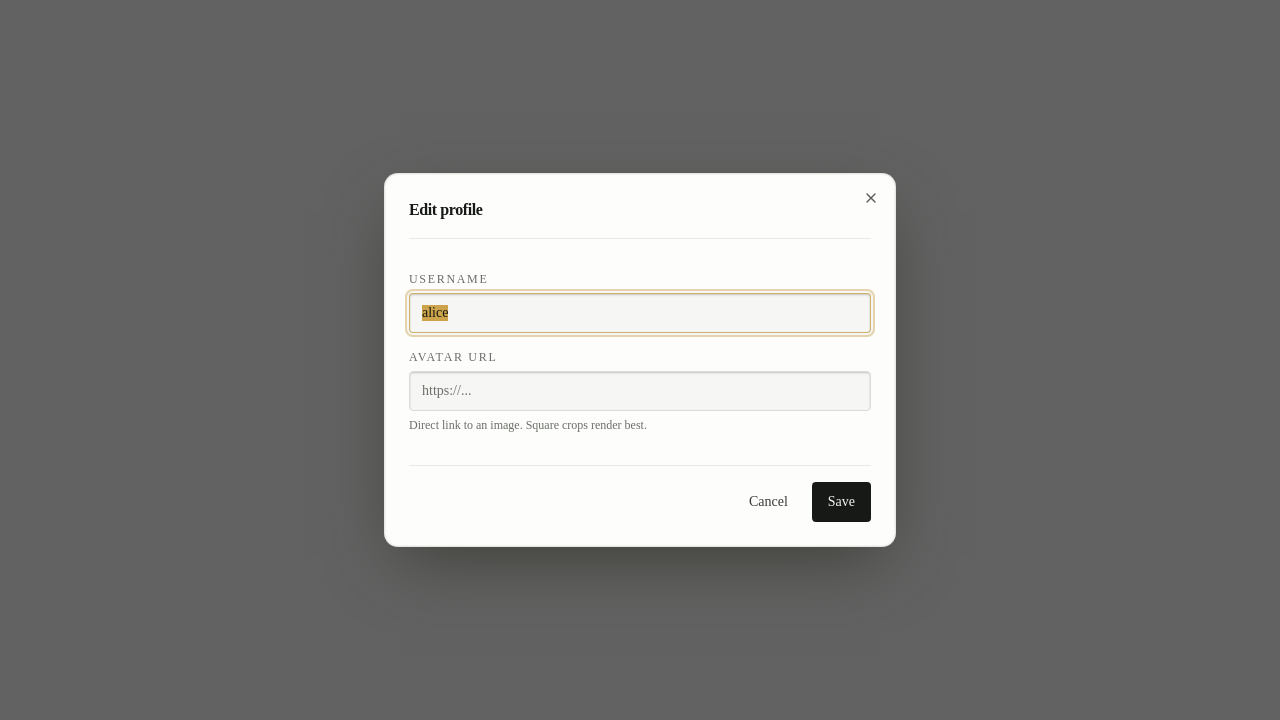
EditProfileDialog › shows error message on failed save
Click the button "Save". click: (841, 502)
box: [812,482,871,522]
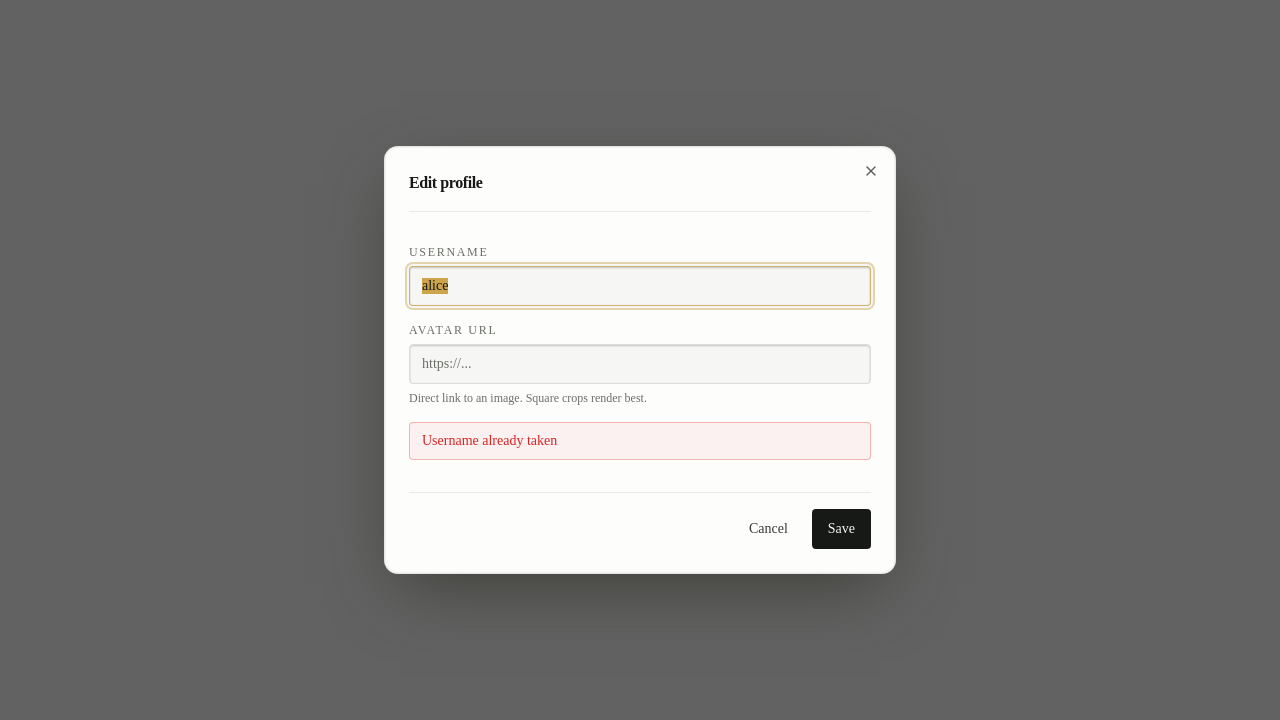
Result: the text "Username already taken" is shown at [409,422,871,460]
